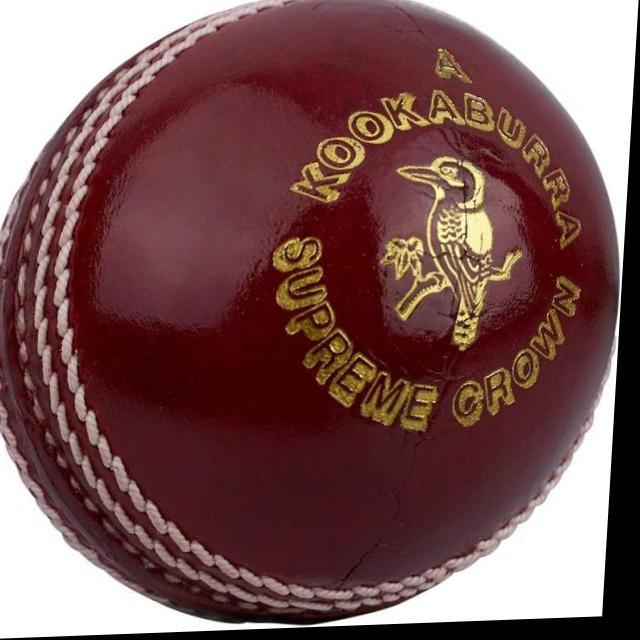cricket ball: (0, 0, 624, 629)
